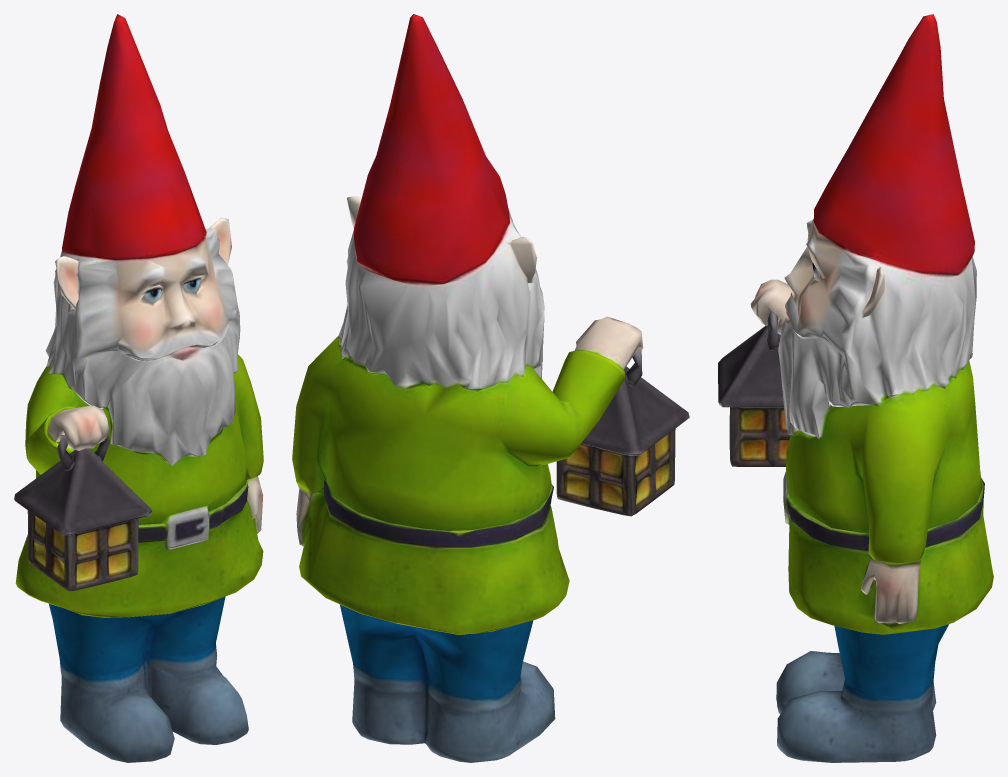
File: x_gnome.glb
3 renders of one model, left to right at view 1: azimuth 30°, elevation 25°; view 2: azimuth 150°, elevation 25°; view 3: azimuth 270°, elevation 25°, orthographic. The views are drawn at different scales.
Bounding box in the file's own units: 0.2578 × 0.5976 × 0.2096.
Materials: 1 (1 with a texture image).
